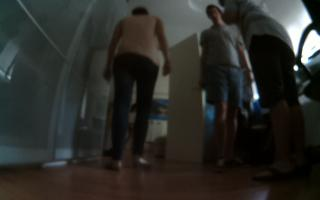person: (218, 1, 308, 183), (104, 5, 171, 174), (196, 1, 255, 175)
